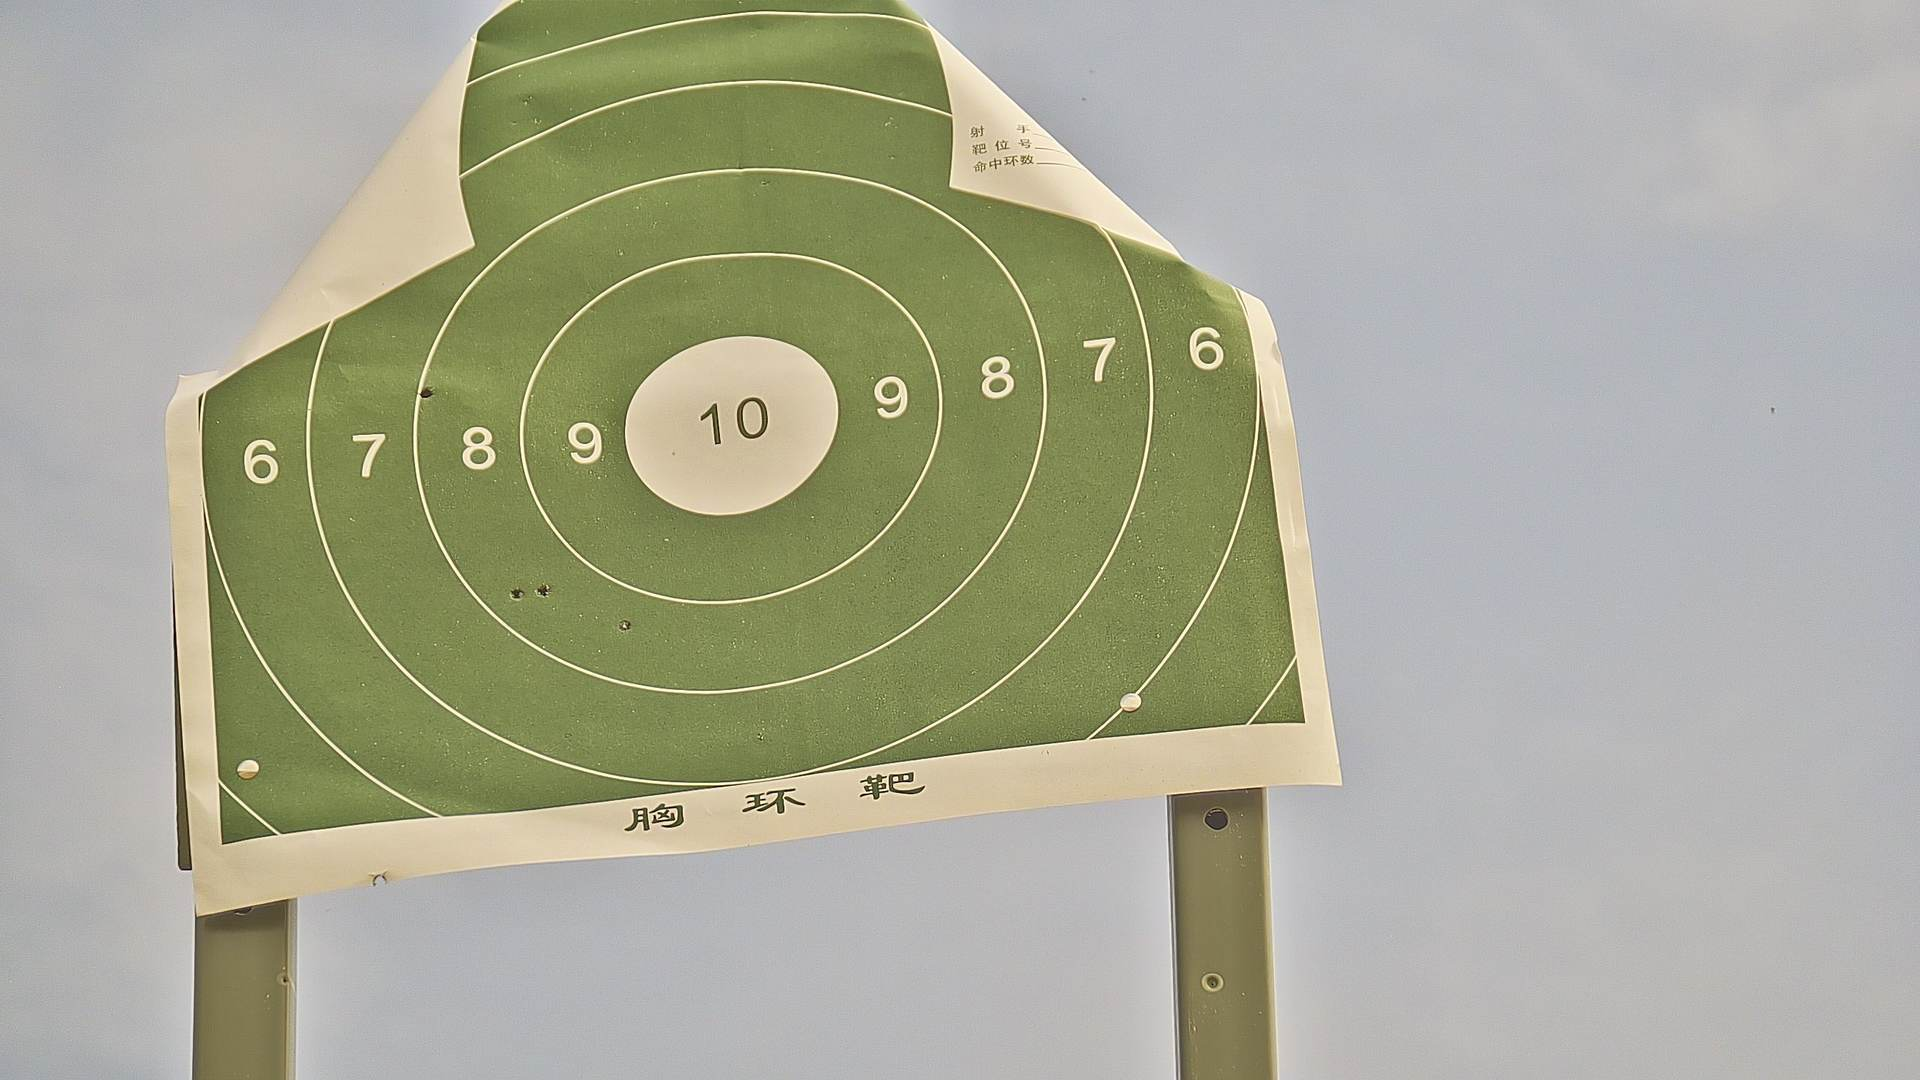hole: (417, 382, 434, 401), (535, 582, 550, 599), (508, 585, 522, 597), (618, 618, 632, 629)
target: (193, 1, 1315, 847)
ten: (626, 334, 835, 513)
